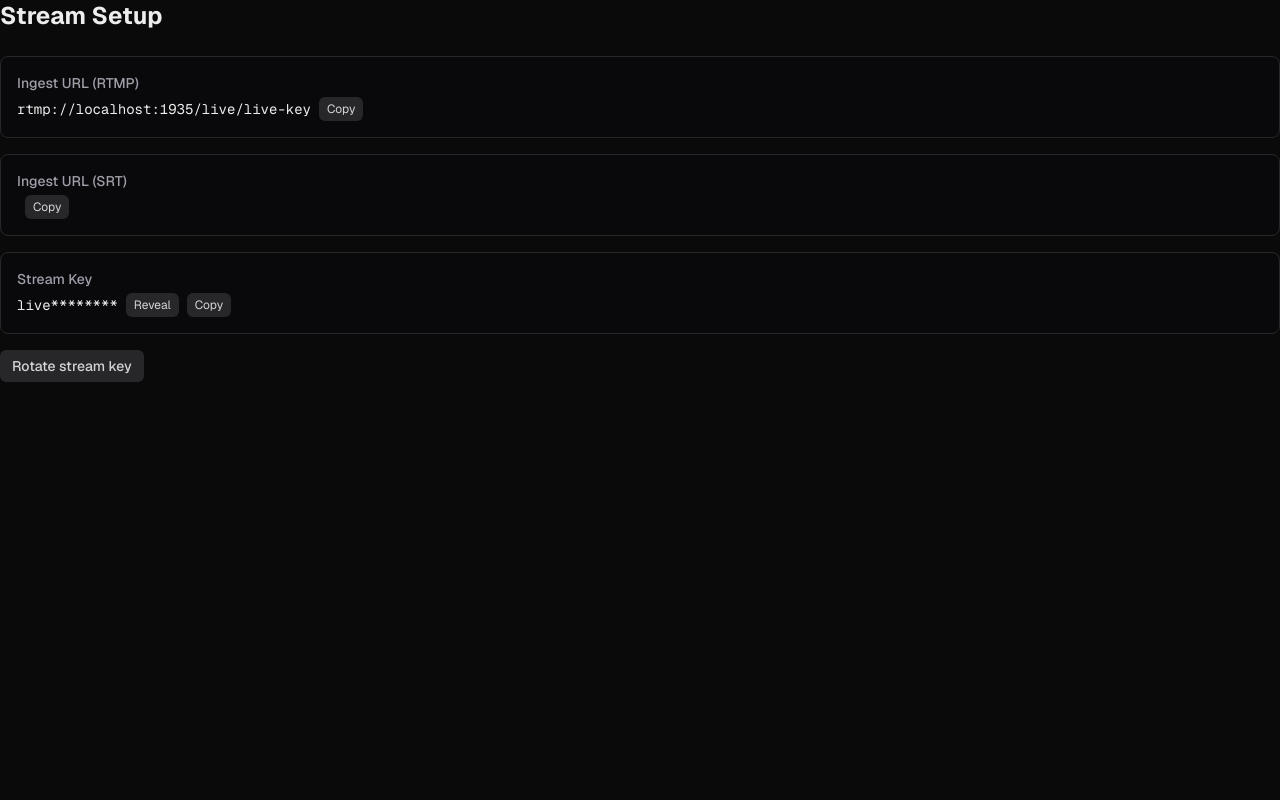
Test: StreamSetup › shows error when rotating while live
The image size is (1280, 800).
Expected: the text "rtmp://localhost:1935/live/live-key" is shown, [17,99,311,119]
Click the button "Rotate stream key": (72, 366) [0,350,144,382]
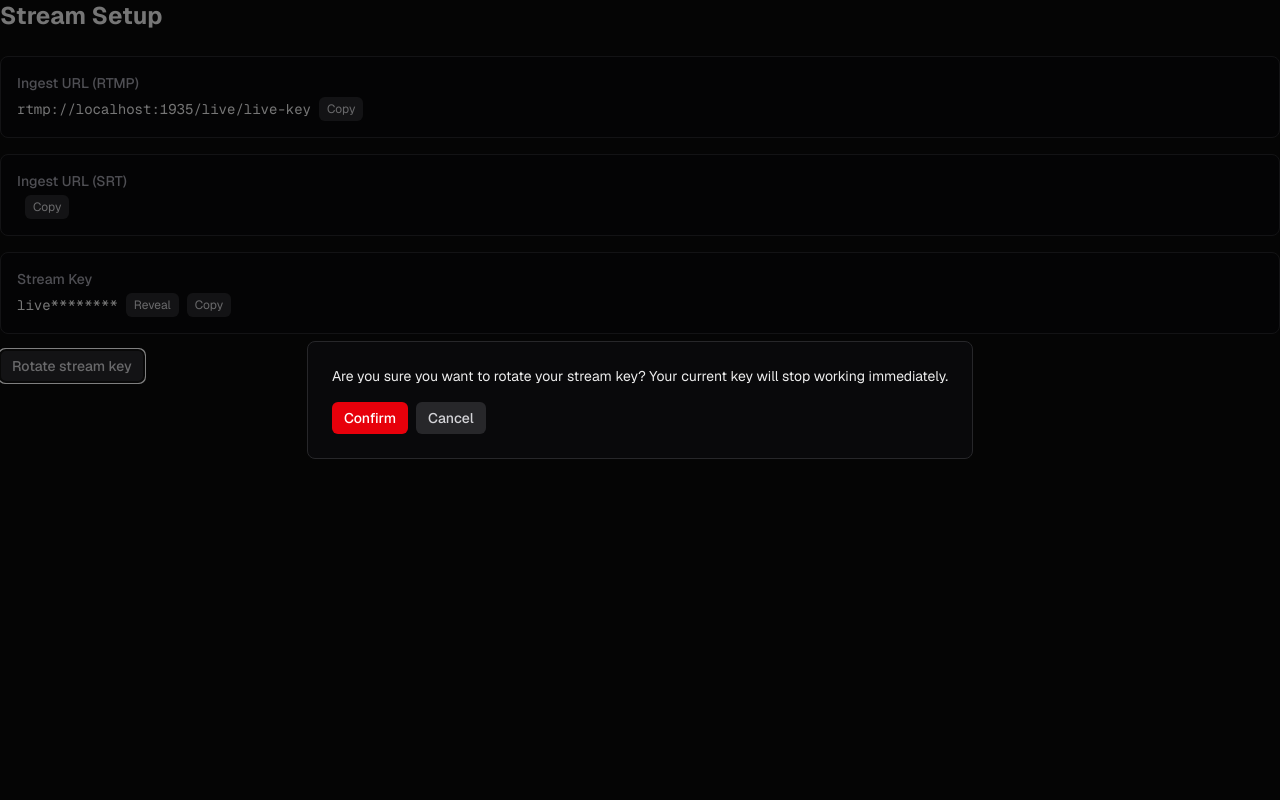
Click the button "Confirm": (370, 418) [332,402,408,434]
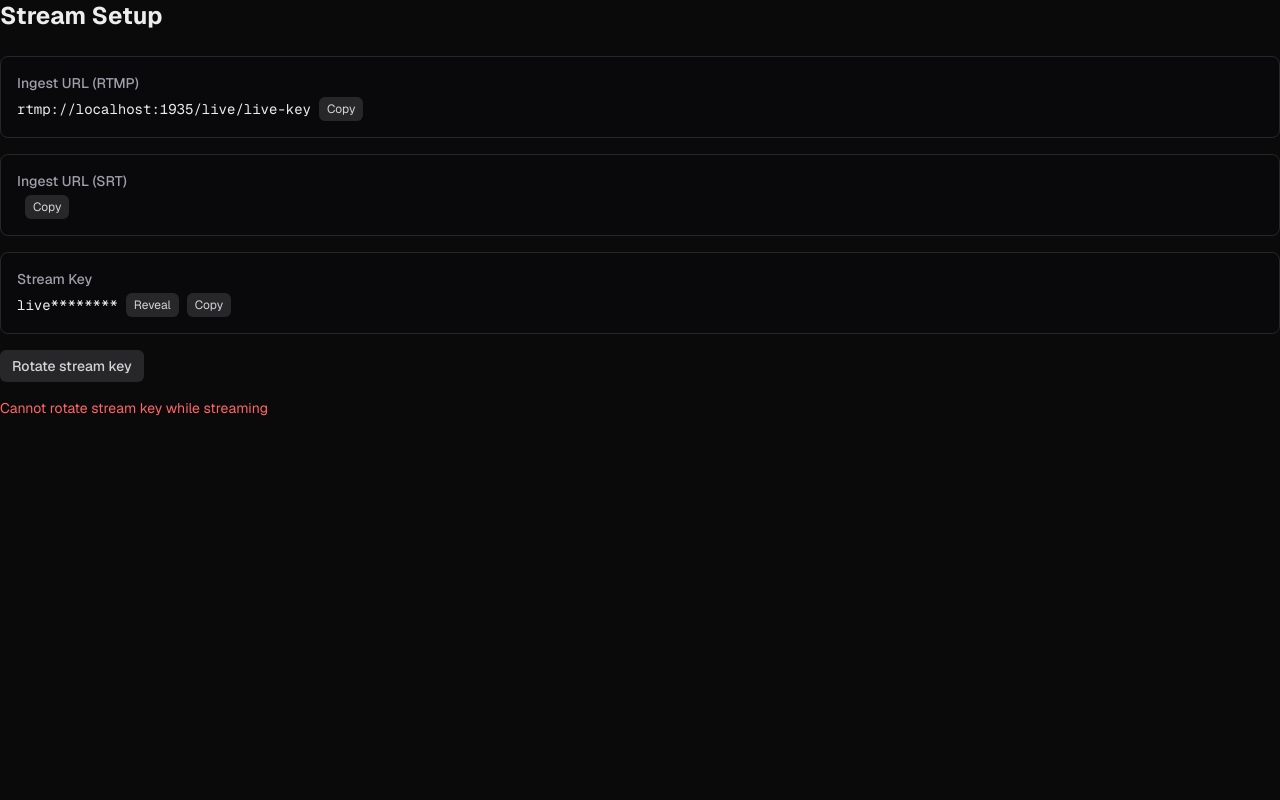
Result: the text "Cannot rotate stream key while streaming" is shown at [0,399,268,417]
